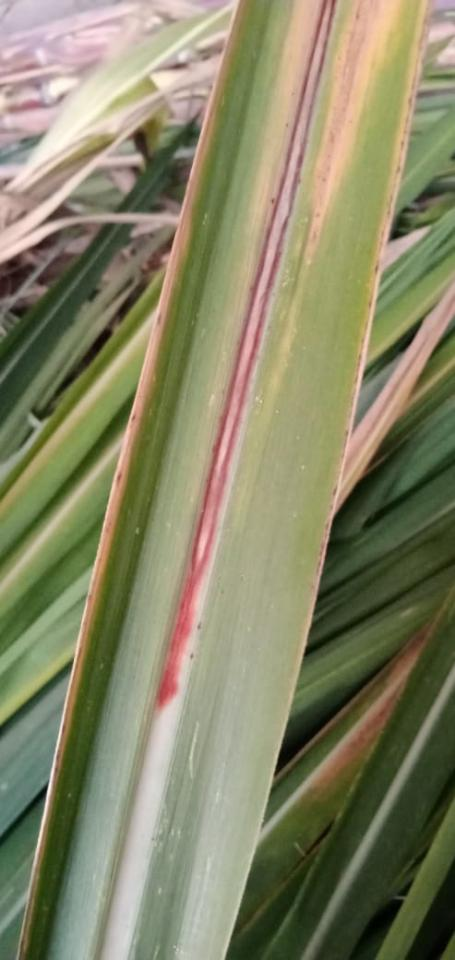RedRot: (155, 0, 337, 713)
Yellow: (306, 0, 403, 262), (254, 0, 320, 217)
